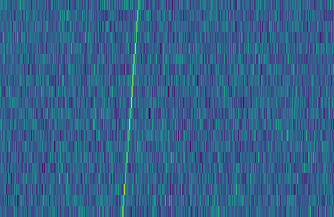signal: (117, 0, 143, 217)
